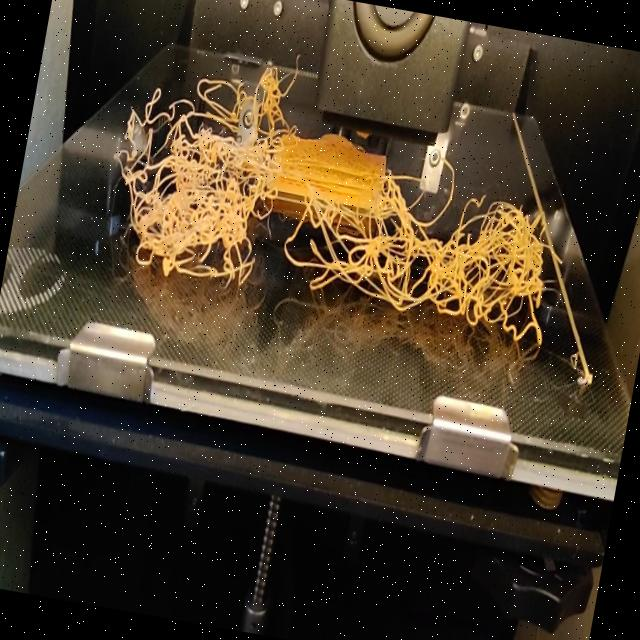spaghetti: (97, 86, 580, 351), (154, 26, 307, 120)
